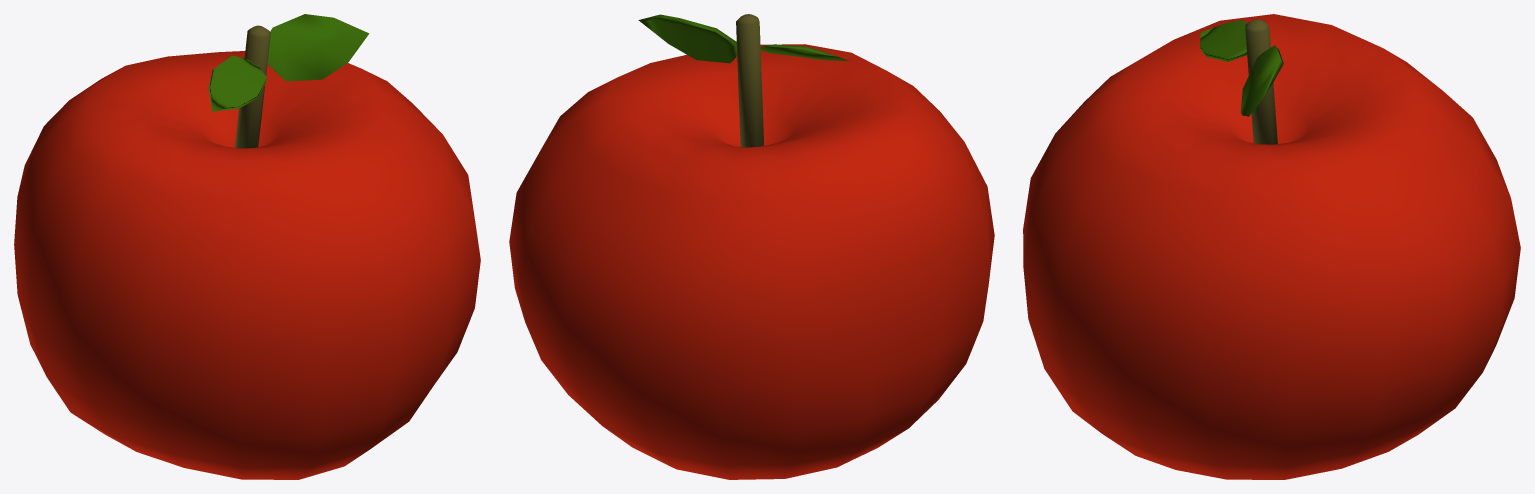
The model's file is appol.fbx.
3 renders of one model, left to right at view 1: azimuth 30°, elevation 25°; view 2: azimuth 150°, elevation 25°; view 3: azimuth 270°, elevation 25°, orthographic. The views are drawn at different scales.
Parts seen in each view (by area): view 1: Sphere, Cube, Cube.001, Cylinder; view 2: Sphere, Cylinder, Cube, Cube.001; view 3: Sphere, Cylinder, Cube, Cube.001.
Part boxes in pixels (x1,y1,x2,y2): Sphere: (14,51,480,479); Cube: (267,14,369,81); Cube.001: (208,55,266,111); Cylinder: (235,25,270,148); Sphere: (509,44,994,479); Cylinder: (736,14,763,147); Cube: (638,14,737,63); Cube.001: (760,44,849,60); Sphere: (1023,14,1520,479); Cylinder: (1245,19,1277,144); Cube: (1240,45,1283,116); Cube.001: (1199,20,1247,61).
Bounding box in the file's own units: 196 × 181 × 198.
